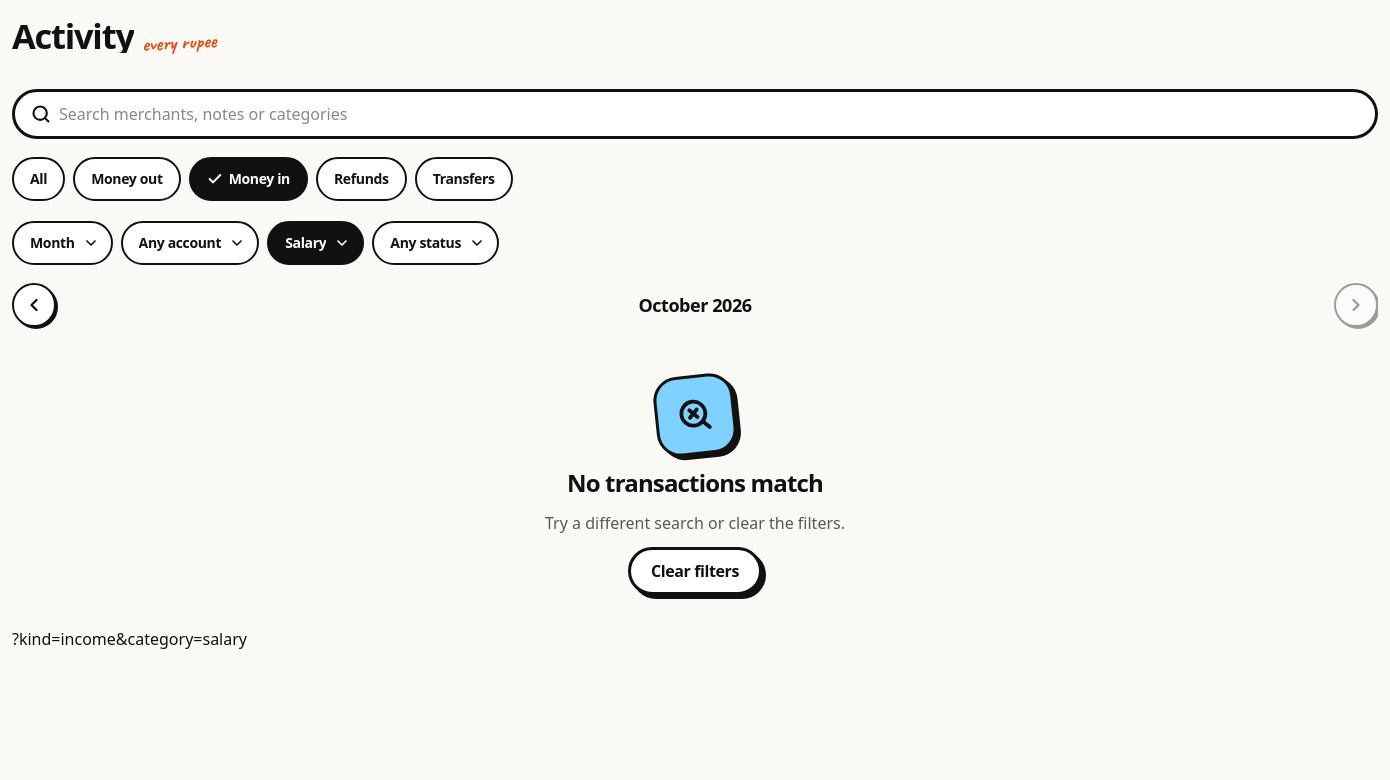
Test case: Activity — filters › drops an income category when switching to money out
Click the button "Money out": {"x": 127, "y": 179} top-left (73, 157), bottom-right (181, 201)
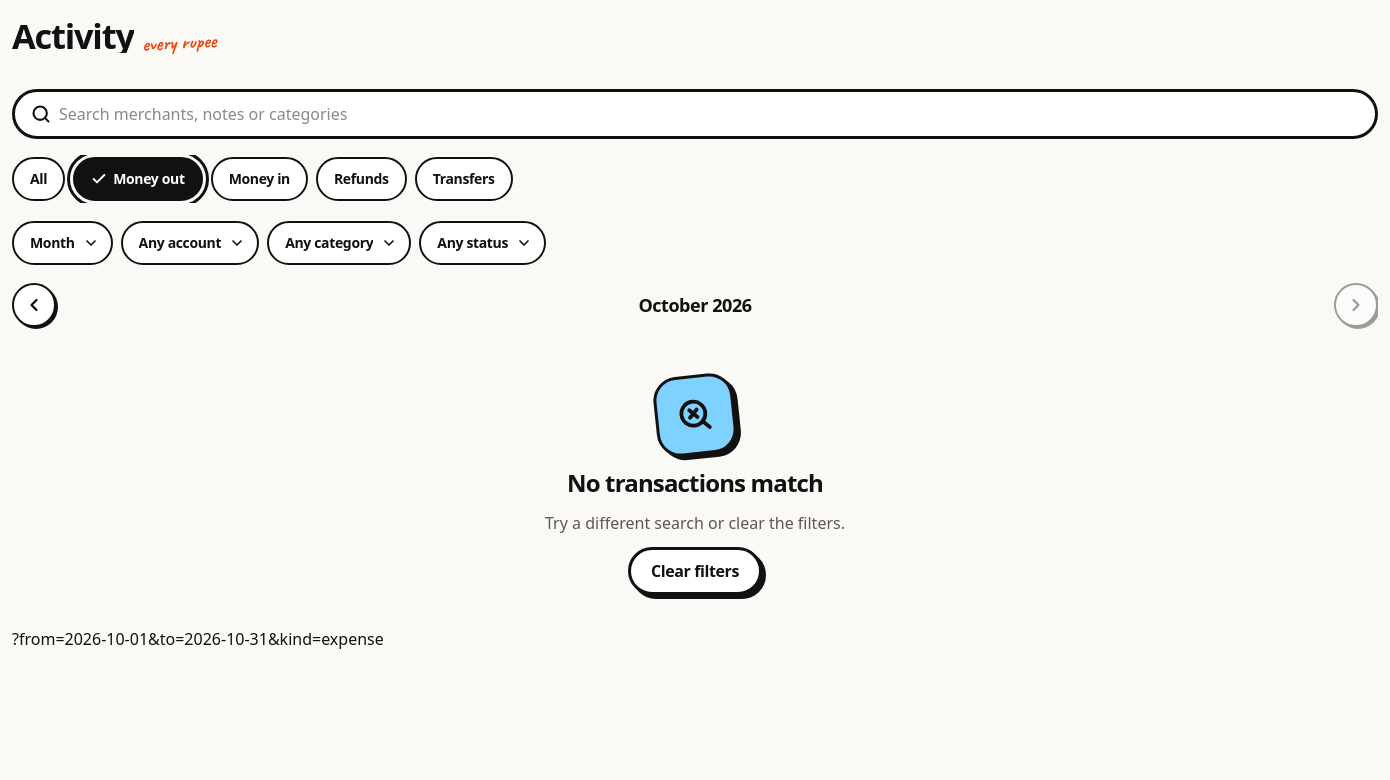
Check: the text with test id "location" shows "kind=expense", box top-left (12, 628), bottom-right (384, 650)
Check: the text with test id "location" no longer shows "category=", box top-left (12, 628), bottom-right (384, 650)
